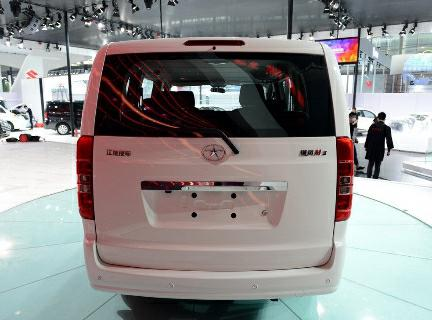江淮-瑞风M4: (73, 32, 360, 302)
